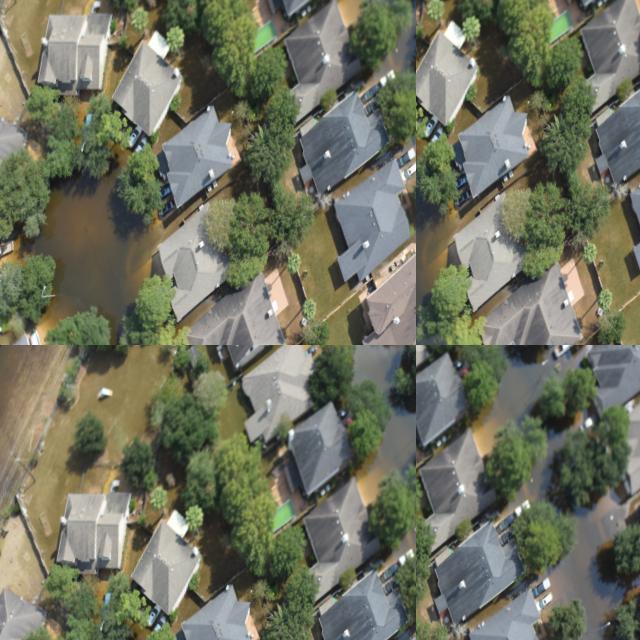fire: (0, 0, 416, 345), (0, 345, 226, 640), (547, 35, 640, 345), (551, 496, 625, 640), (472, 350, 557, 455), (560, 353, 583, 376)
